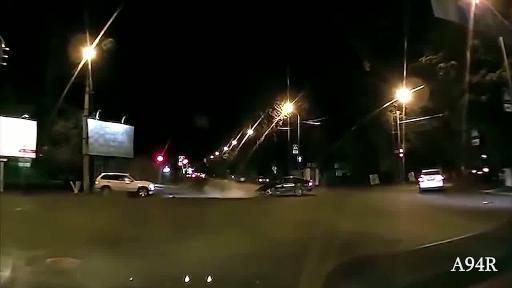CAR: (96, 168, 157, 202), (249, 173, 317, 200), (414, 169, 449, 192)
